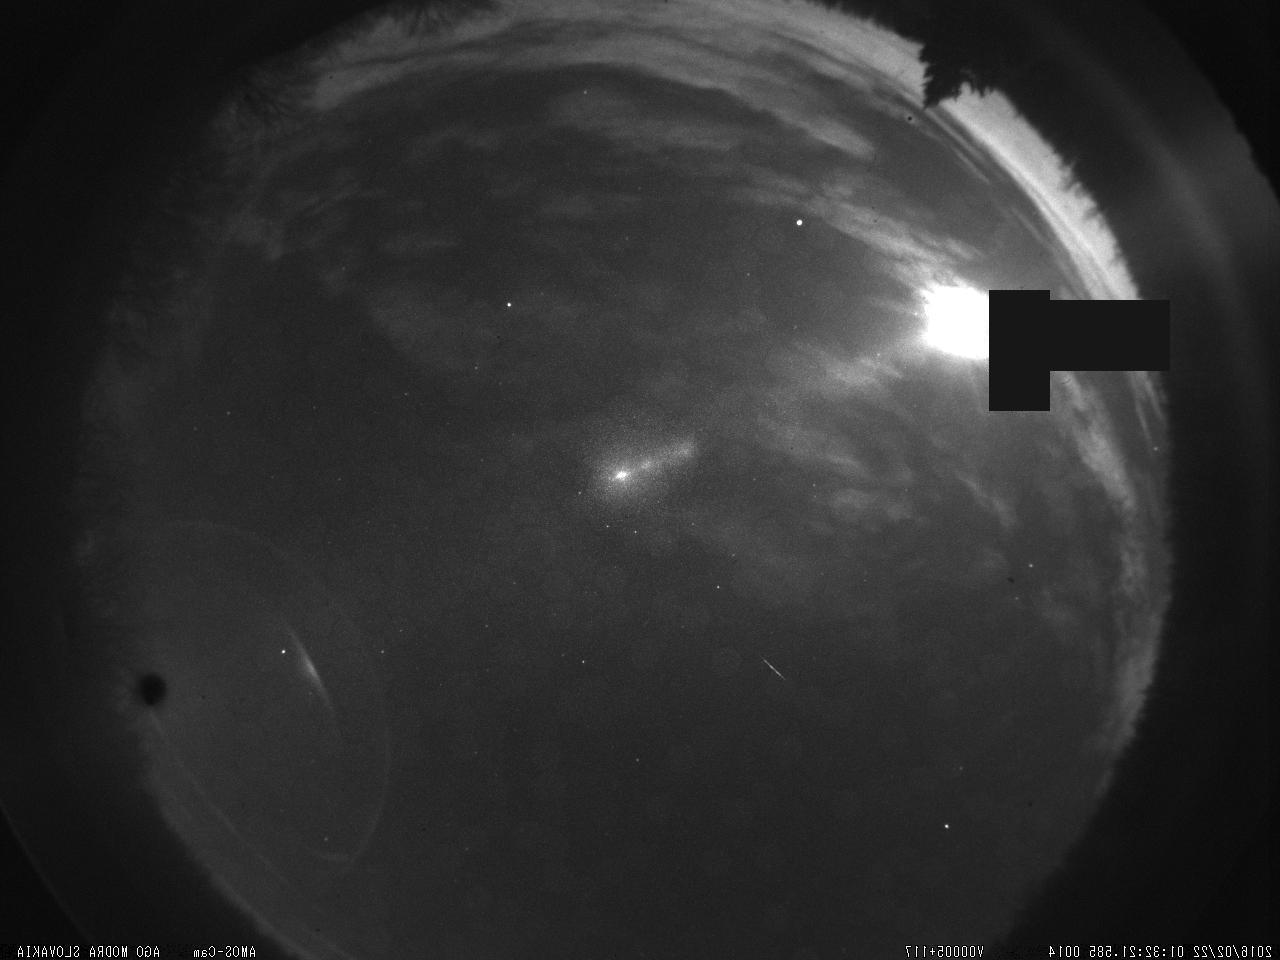meteor: (758, 653, 793, 688)
